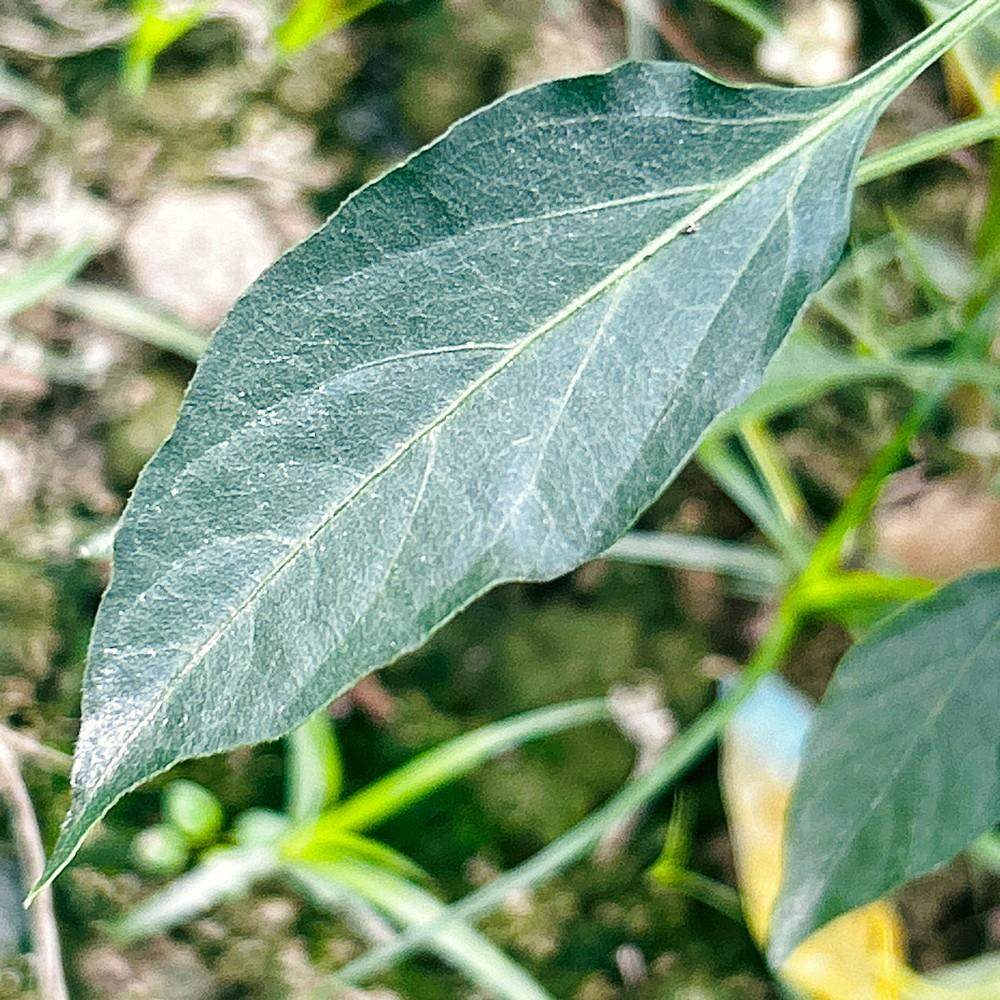Daun Cabai Sehat: (22, 1, 996, 909), (764, 559, 1000, 974)
